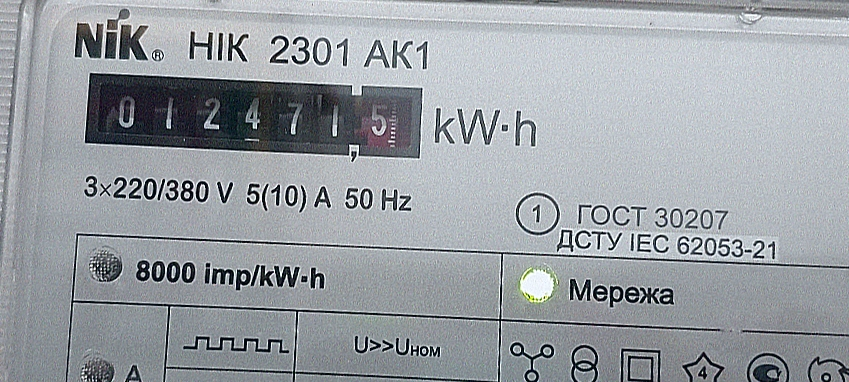0: (111, 91, 137, 128)
1: (160, 93, 175, 130), (326, 100, 339, 137)
2: (199, 93, 222, 131)
4: (241, 93, 262, 130)
5: (366, 98, 390, 137)
7: (280, 97, 303, 136)
screen: (71, 53, 435, 175)
